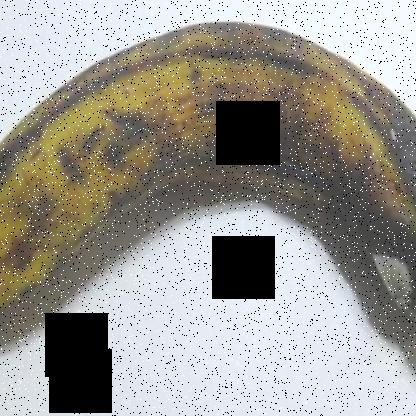overripe: (1, 1, 415, 389)
rotten: (300, 86, 415, 334)
